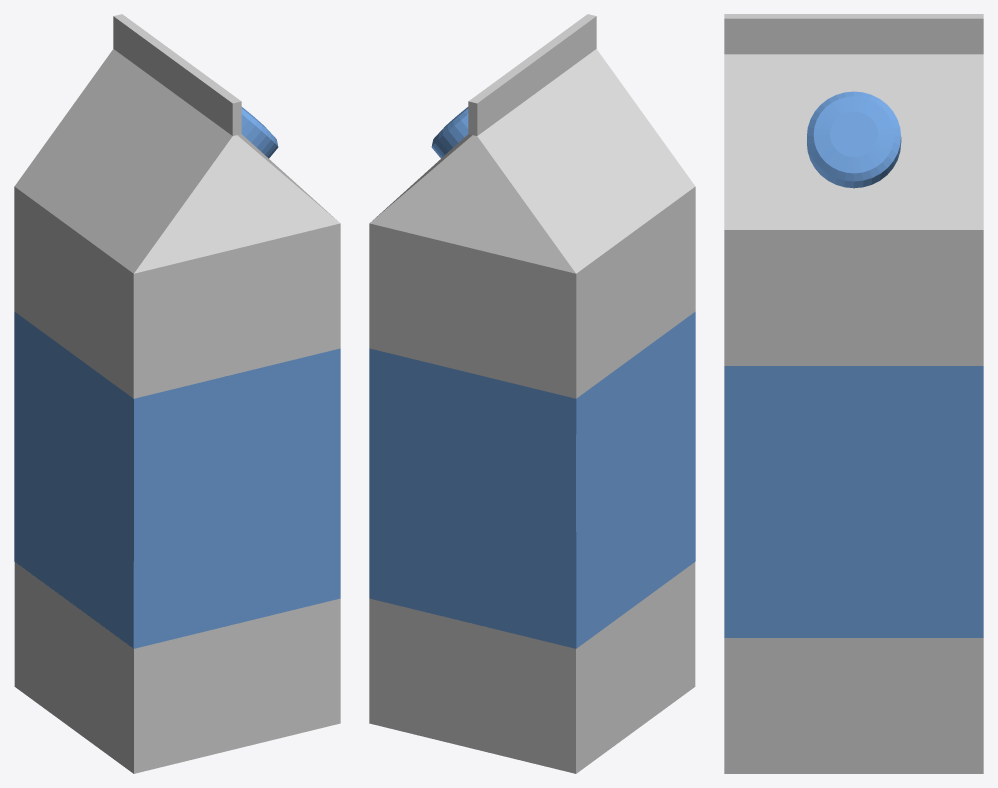
File: milk-transformed.glb
3 views of the same model, side by side, from view 1: azimuth 30°, elevation 25°; view 2: azimuth 150°, elevation 25°; view 3: azimuth 270°, elevation 25° (orthographic). The views are drawn at different scales.
Parts seen in each view (by area): view 1: Cylinder; view 2: Cylinder; view 3: Cylinder.
Part boxes in pixels (x1=…): Cylinder: x1=14, y1=14, x2=340, y2=773; Cylinder: x1=369, y1=14, x2=695, y2=773; Cylinder: x1=724, y1=14, x2=983, y2=773.
Size of the model in its own units: 2 by 5.98 by 2.
